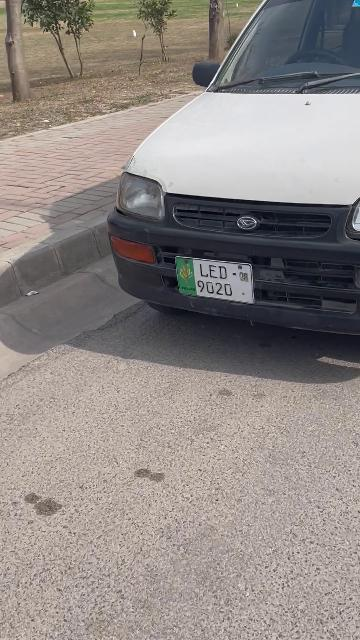plate: (176, 258, 254, 304)
